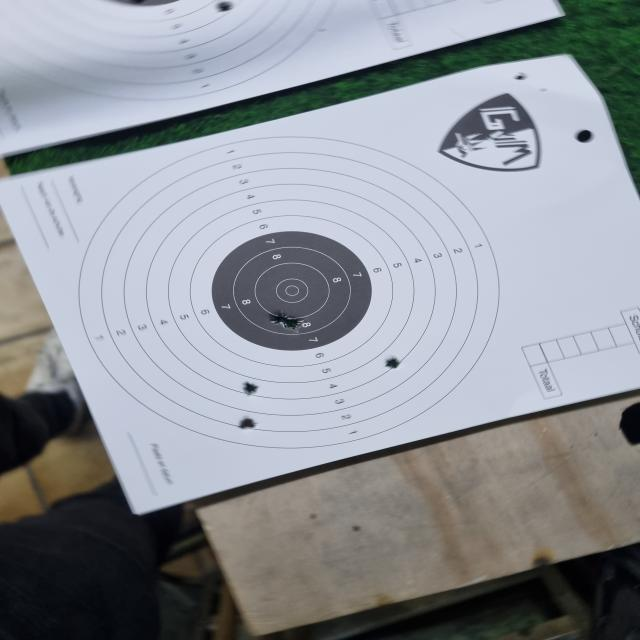2: (238, 418, 259, 428)
4: (242, 382, 259, 395), (384, 357, 401, 369)
5: (216, 1, 233, 13)
9: (269, 310, 286, 327), (286, 316, 304, 332)
Target: (78, 136, 500, 450), (0, 0, 338, 101)
black_contour: (211, 231, 371, 351)
